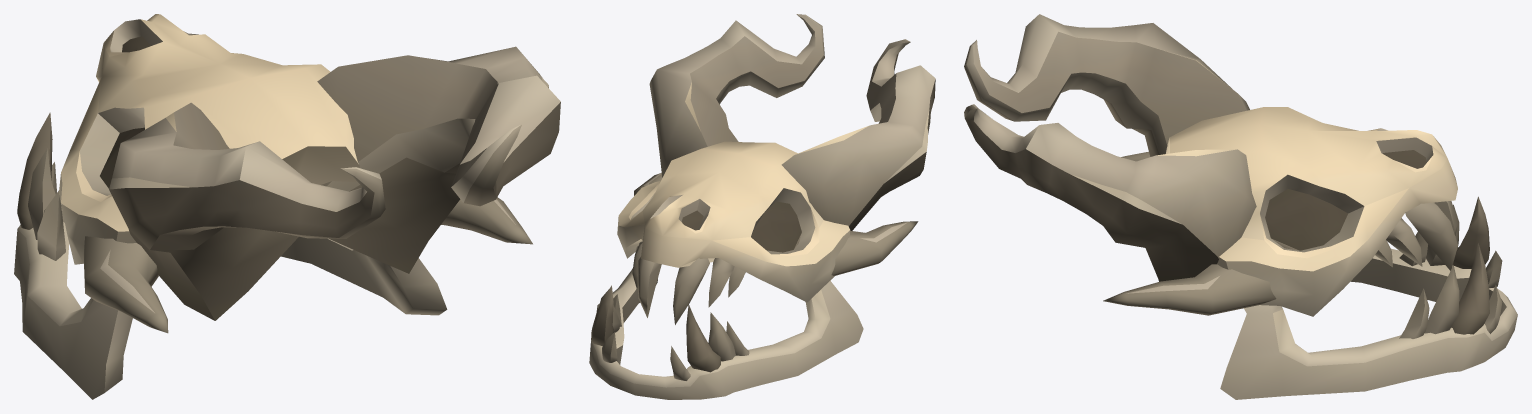
File: creature-skull.obj
3 renders of one model, left to right at view 1: azimuth 30°, elevation 25°; view 2: azimuth 150°, elevation 25°; view 3: azimuth 270°, elevation 25°, orthographic. The views are drawn at different scales.
Visible parts, largest first — view 1: creature-skull; view 2: creature-skull; view 3: creature-skull.
Boxes of the visible parts, x1,y1,x2,y2 form: creature-skull: (14,14,560,399); creature-skull: (589,14,935,399); creature-skull: (964,14,1517,399).
Bounding box in the file's own units: 12.73 × 9.42 × 17.87.
1 material, 1 textured.
